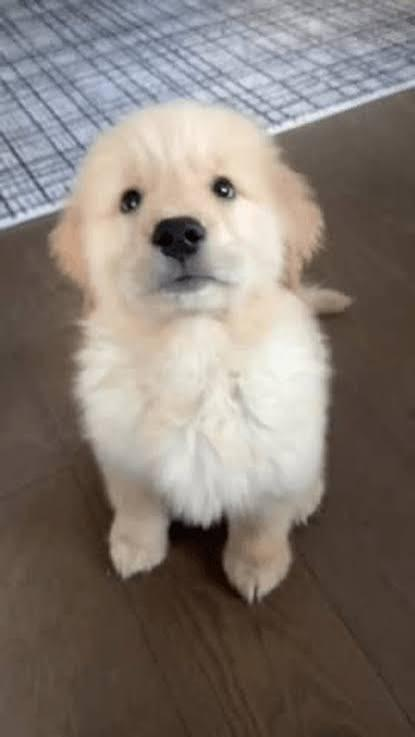puppy-dog: (48, 97, 352, 611)
